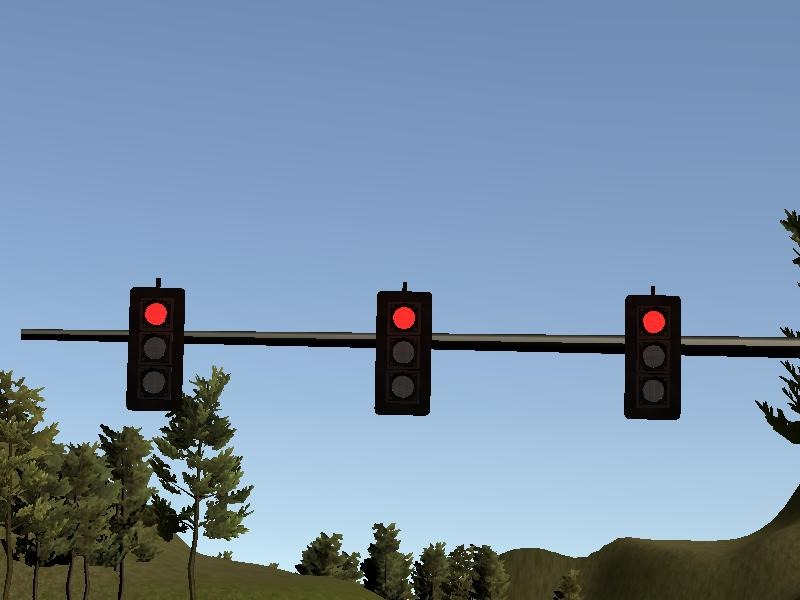red: (127, 288, 184, 410), (625, 297, 682, 419), (374, 292, 431, 414)
